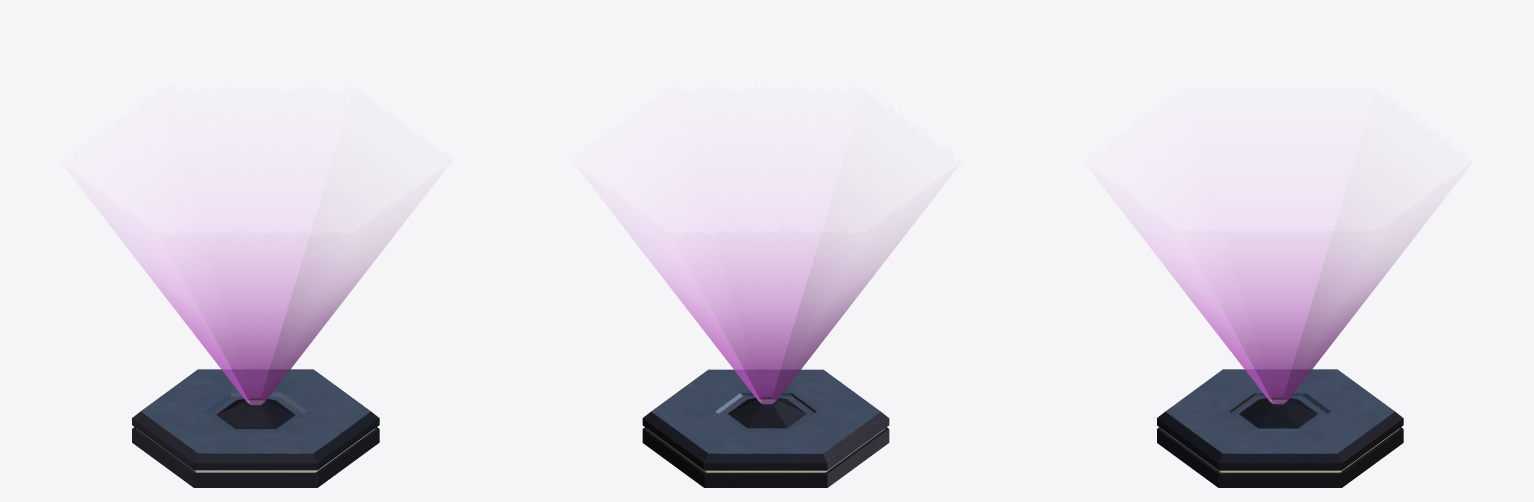
The model's file is pm-holo-pot-01.glb.
The picture shows the model from 3 angles, left to right: view 1: azimuth 30°, elevation 25°; view 2: azimuth 150°, elevation 25°; view 3: azimuth 270°, elevation 25°; orthographic projection.
Visible parts, largest first — view 1: HoloPot01_Art; view 2: HoloPot01_Art; view 3: HoloPot01_Art.
Boxes of the visible parts, left/top/right/bottom form: HoloPot01_Art: left=108, top=222, right=401, bottom=487; HoloPot01_Art: left=621, top=222, right=914, bottom=487; HoloPot01_Art: left=1131, top=222, right=1425, bottom=487.
Size of the model in its own units: 3.38 by 3.04 by 3.91.
1 material, 1 textured.
